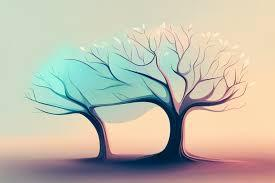tree: (25, 23, 257, 160)
